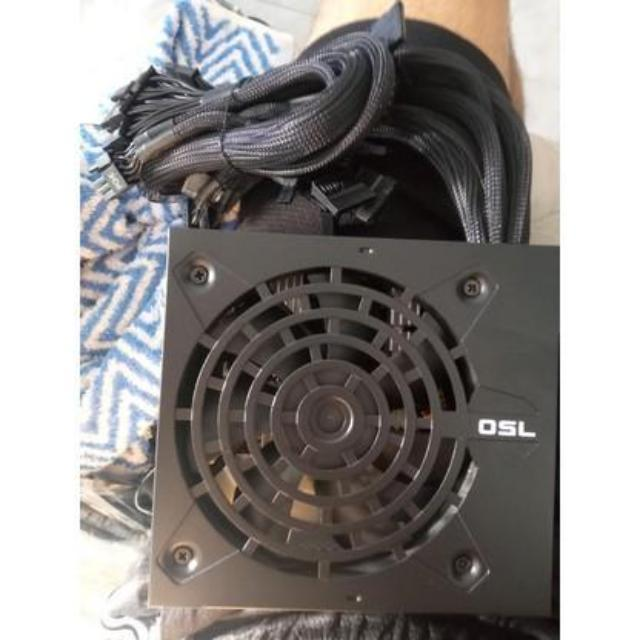PSU: (144, 218, 559, 640)
